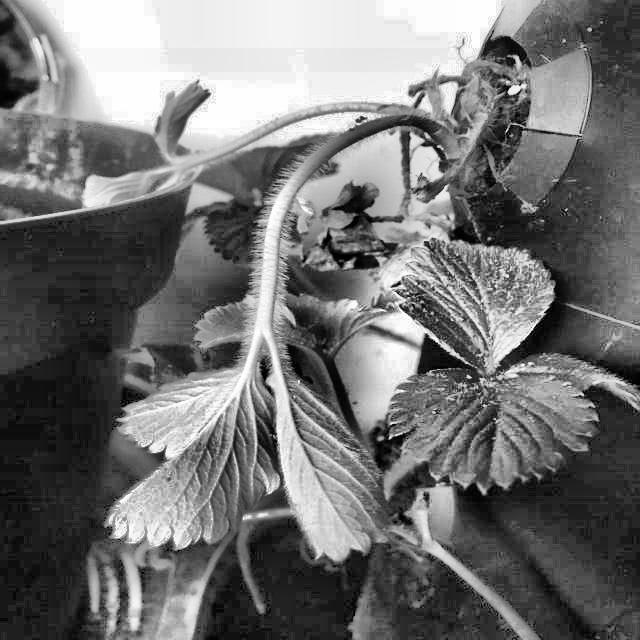plants: (72, 84, 455, 578)
